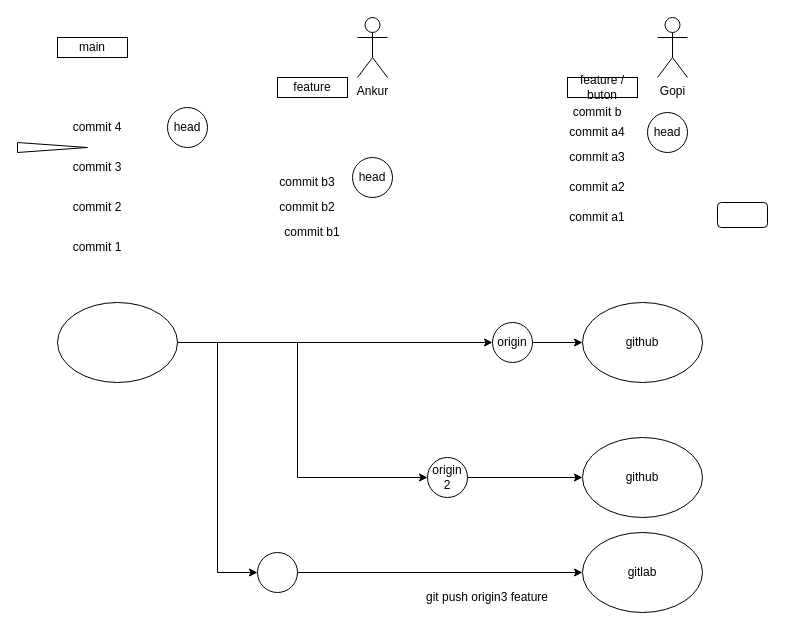
The diagram is 785 pixels wide and 630 high, and some of its shapes have lost their labels. Each missing label, with the centre of its shape:
"git" belongs at point 117,342.
"origin 3" belongs at point 277,572.
"pr" belongs at point 742,215.
